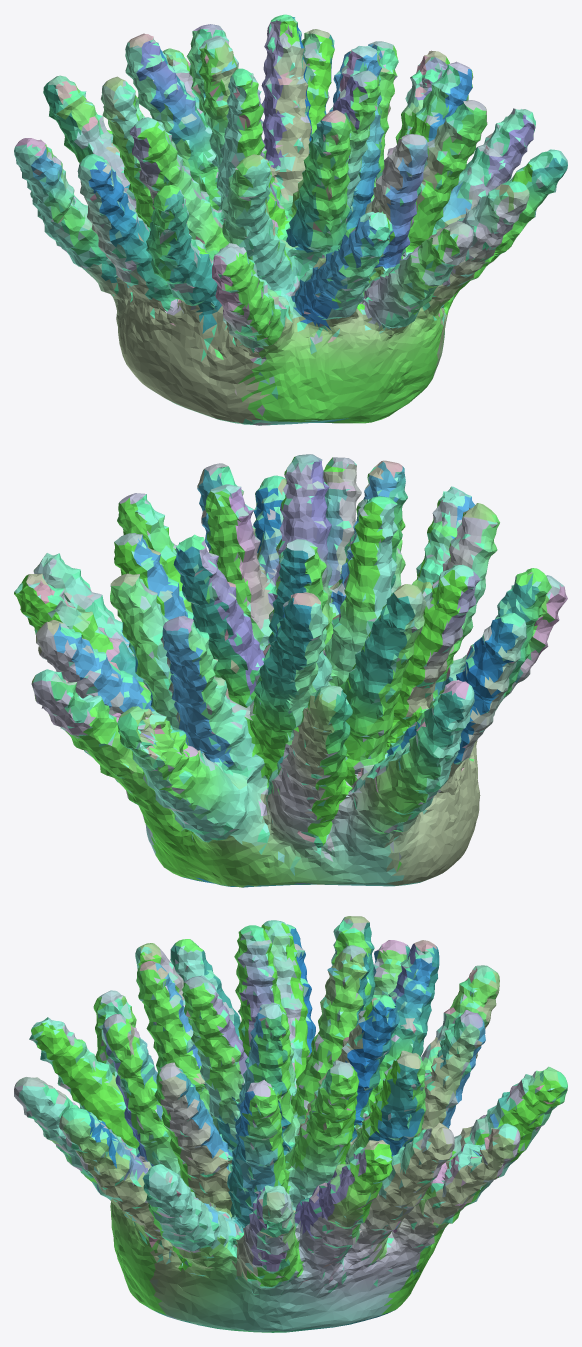
File: Corallo_2.fbx
The picture shows the model from 3 angles, top to bottom: view 1: azimuth 30°, elevation 25°; view 2: azimuth 150°, elevation 25°; view 3: azimuth 270°, elevation 25°; orthographic projection. The views are drawn at different scales.
Parts seen in each view (by area): view 1: Corallo_2; view 2: Corallo_2; view 3: Corallo_2.
Boxes of the visible parts, bbox=[...] form: Corallo_2: bbox=[14, 14, 567, 425]; Corallo_2: bbox=[14, 454, 567, 887]; Corallo_2: bbox=[14, 916, 567, 1332].
Bounding box in the file's own units: 17844 × 12135 × 18446.
